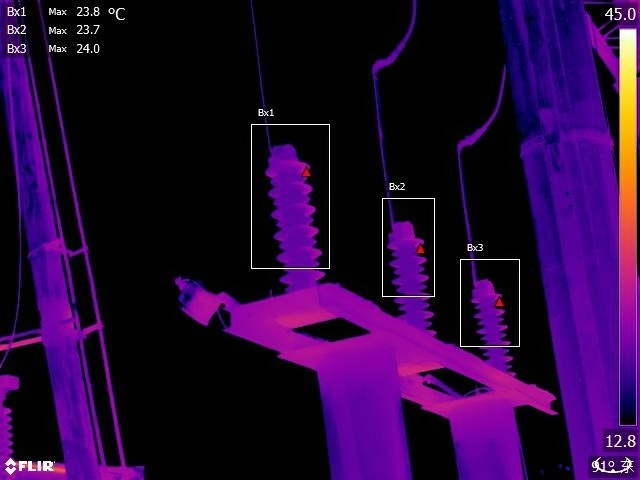lightning arrester: (268, 138, 328, 287), (389, 219, 435, 333), (465, 274, 514, 373)
